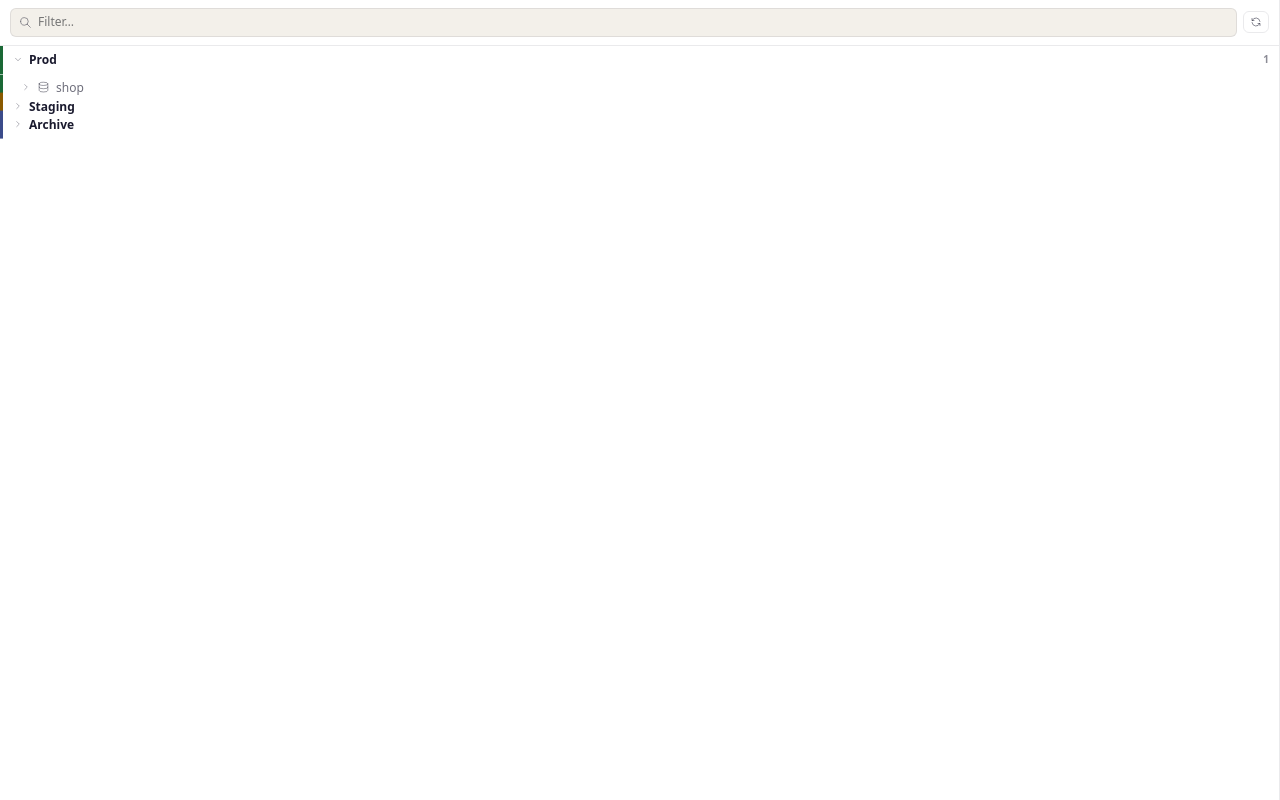
Test: DbCollectionNavigator — an accordion of Connection roots › expanding one root collapses the one that was open
The width and height of the screenshot is (1280, 800).
Click the list item with test id "nav-connection" showing "Staging": (43, 106) [12, 97, 75, 114]
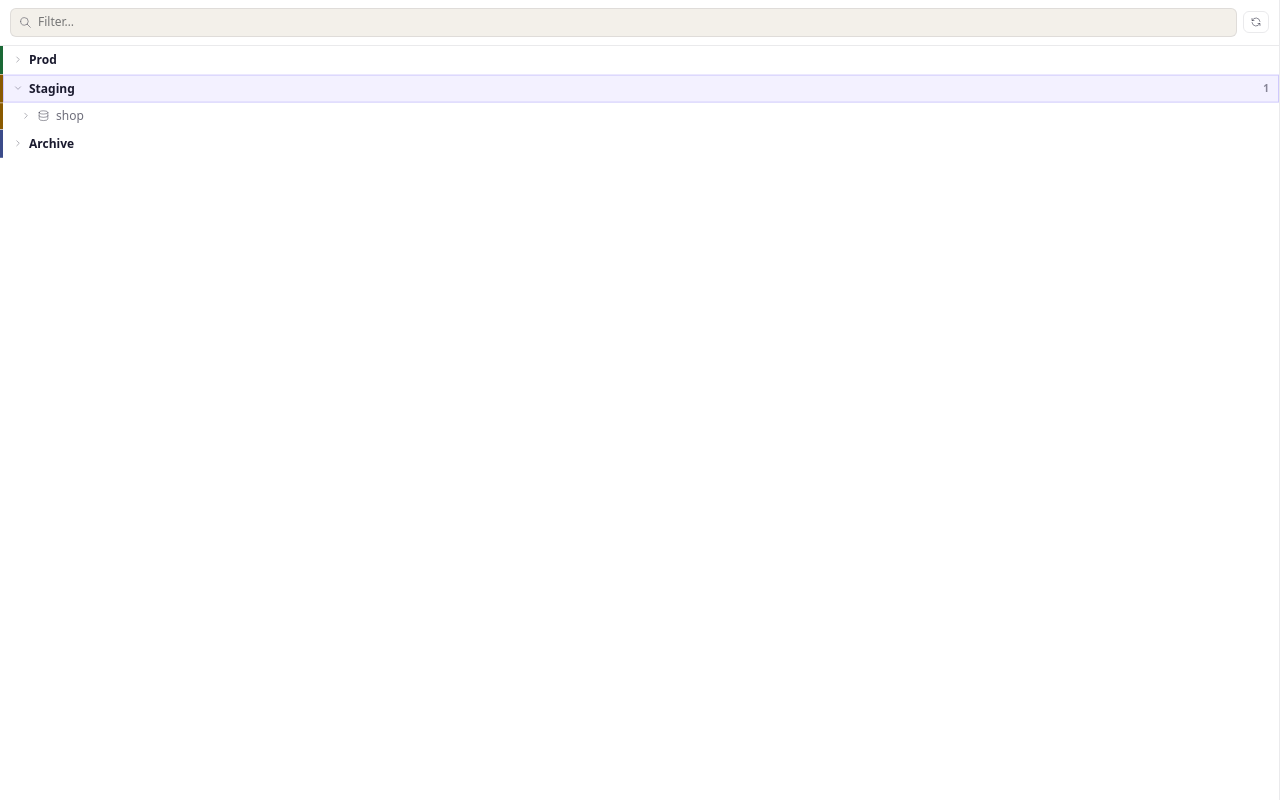
Expected: the list item with test id "nav-connection" is expanded, [3, 74, 1279, 103]
